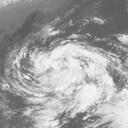cyclone: (19, 39, 110, 112)
